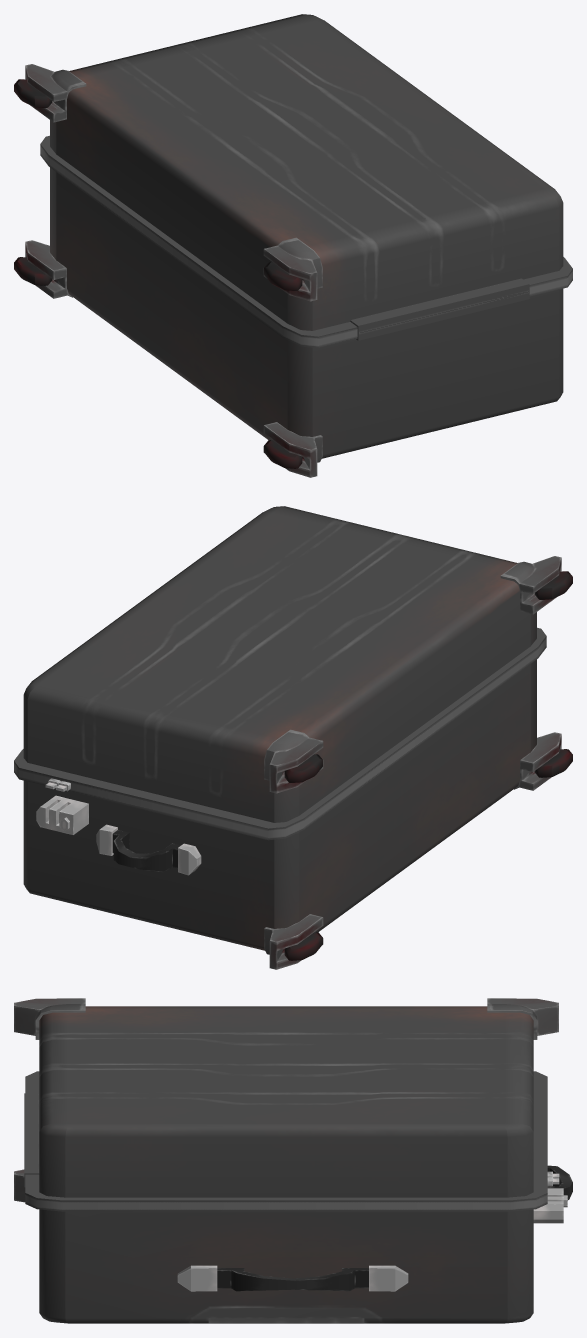
File: suitcase.dae
3 renders of one model, top to bottom at view 1: azimuth 30°, elevation 25°; view 2: azimuth 150°, elevation 25°; view 3: azimuth 270°, elevation 25°, orthographic. The views are drawn at different scales.
Visible parts, largest first — view 1: node0; view 2: node0; view 3: node0.
Boxes of the visible parts, x1=… form: node0: x1=14, y1=14, x2=572, y2=477; node0: x1=14, y1=506, x2=572, y2=969; node0: x1=14, y1=998, x2=572, y2=1323.
Bounding box in the file's own units: 0.42 × 0.68 × 0.27.
1 material, 1 textured.
